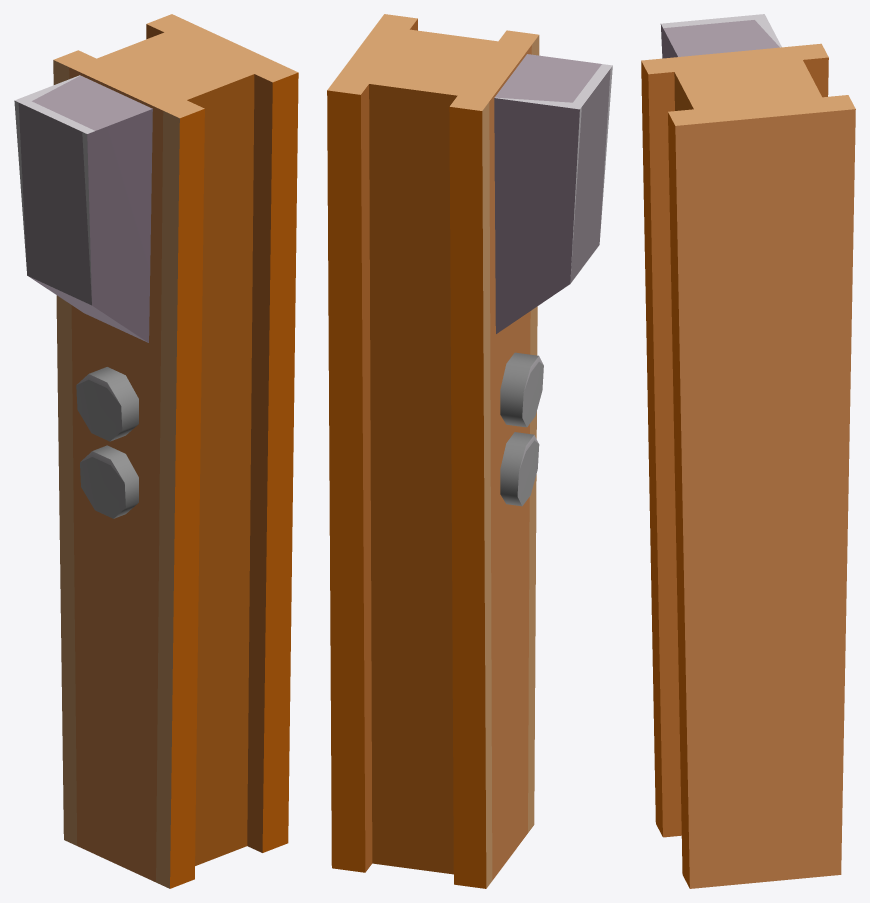
Rendered from TrainPost.fbx.
The picture shows the model from 3 angles, left to right: view 1: azimuth 30°, elevation 25°; view 2: azimuth 150°, elevation 25°; view 3: azimuth 270°, elevation 25°; orthographic projection. The views are drawn at different scales.
Visible parts, largest first — view 1: TrainPost; view 2: TrainPost; view 3: TrainPost.
Boxes of the visible parts, x1=… form: TrainPost: x1=14, y1=14, x2=298, y2=888; TrainPost: x1=327, y1=14, x2=612, y2=888; TrainPost: x1=641, y1=14, x2=855, y2=888.
Bounding box in the file's own units: 55.8 × 173 × 44.07.
